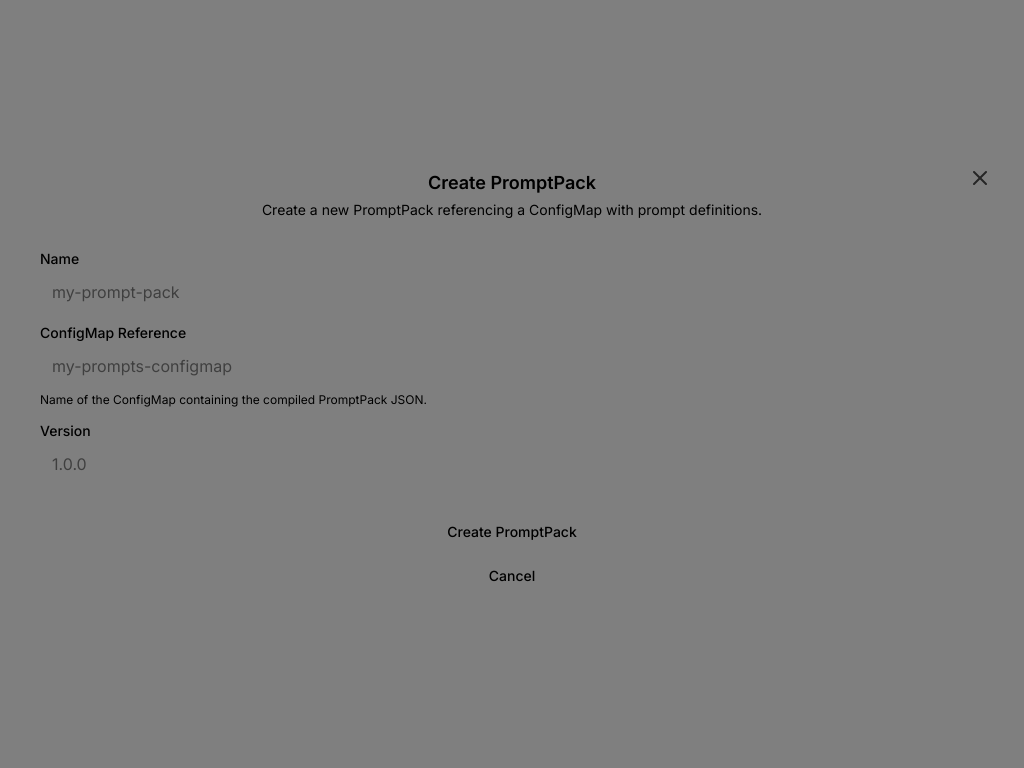
Scenario: PromptPackDialog › shows inline DNS error on invalid name keystroke
The image size is (1024, 768).
In the field labelled "Name": (512, 292) [40,274,984,310], type "Invalid_Name!"
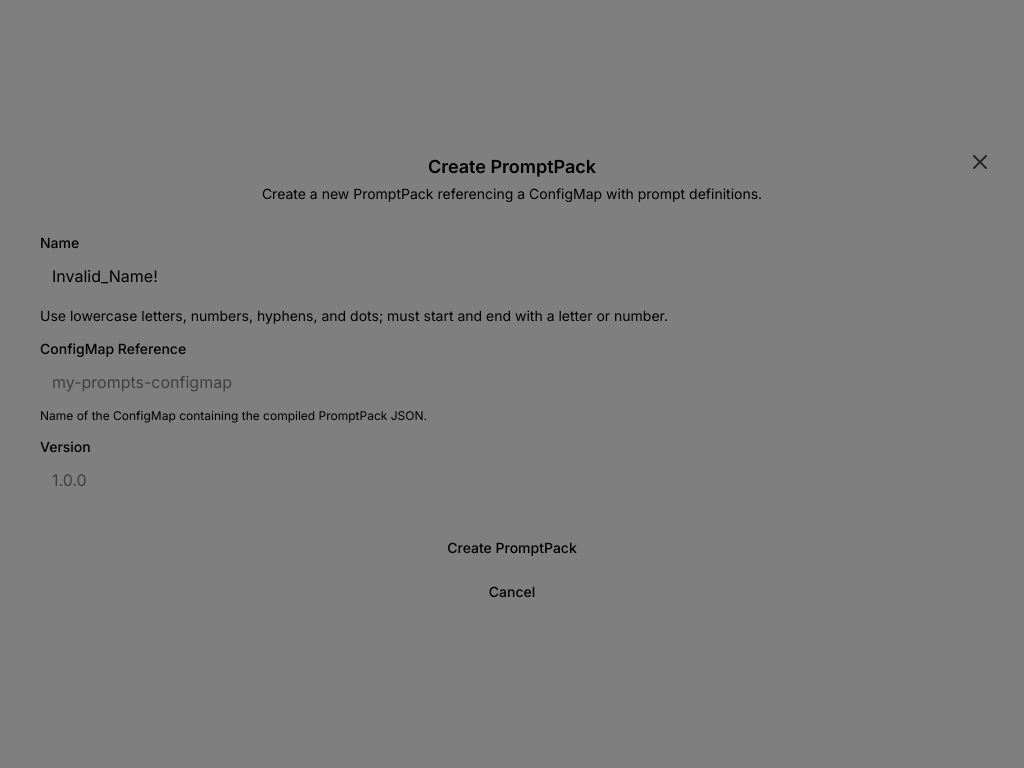
Expected: the text "Use lowercase letters" is shown, [40,307,668,324]
